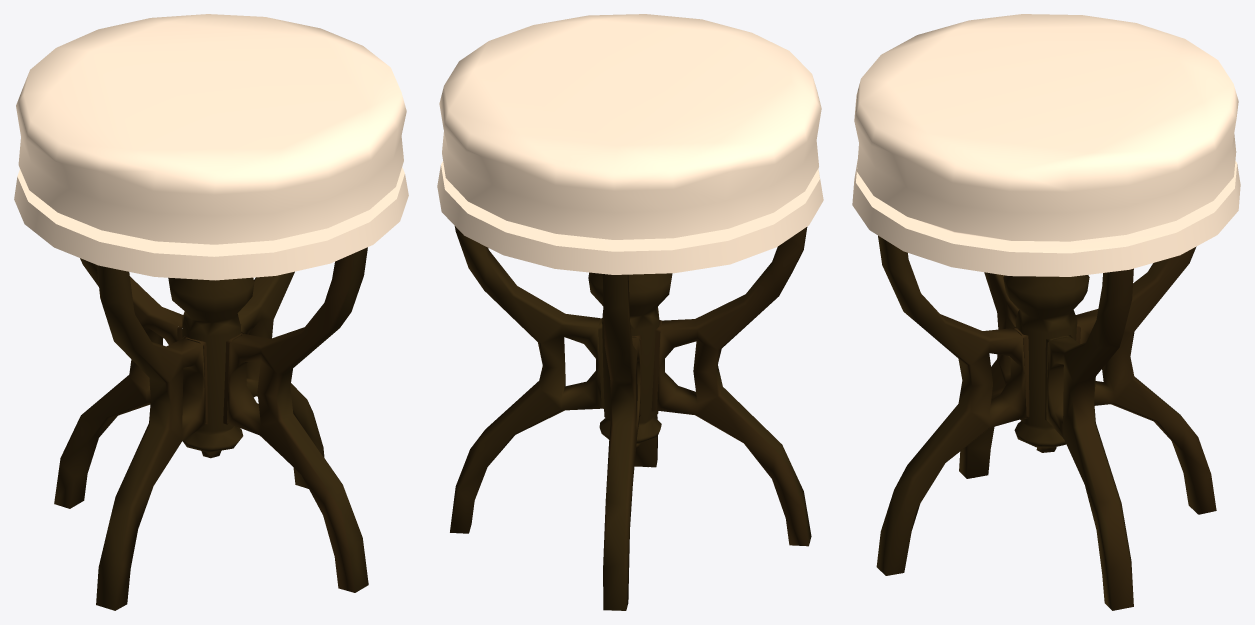
Rendered from 0e0dcda2-2292-4c83-9d60-50fc0eebbd8c.glb.
3 renders of one model, left to right at view 1: azimuth 30°, elevation 25°; view 2: azimuth 150°, elevation 25°; view 3: azimuth 270°, elevation 25°, orthographic.
Parts seen in each view (by area): view 1: AntiqueStool.001; view 2: AntiqueStool.001; view 3: AntiqueStool.001.
Boxes of the visible parts, left/top/right/bottom form: AntiqueStool.001: left=14, top=14, right=408, bottom=610; AntiqueStool.001: left=437, top=14, right=823, bottom=610; AntiqueStool.001: left=852, top=14, right=1240, bottom=610.
Size of what is drawn, in the model's own units: 0.455 by 0.5872 by 0.4548.
Materials: 2 (2 with a texture image).
